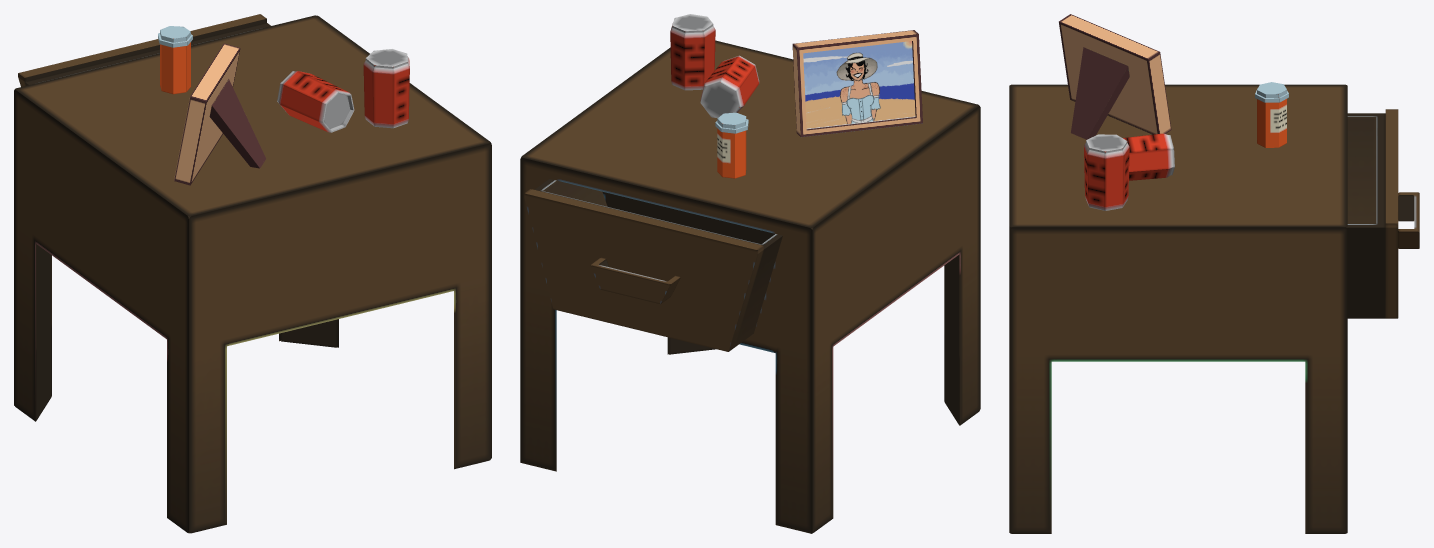
Rendered from BedSideTable.obj.
The picture shows the model from 3 angles, left to right: view 1: azimuth 30°, elevation 25°; view 2: azimuth 150°, elevation 25°; view 3: azimuth 270°, elevation 25°; orthographic projection. The views are drawn at different scales.
Parts seen in each view (by area): view 1: Table, Can, PictureFrame, PILLS HERE!; view 2: Table, PictureFrame, Can, PILLS HERE!; view 3: Table, PictureFrame, Can, PILLS HERE!.
Boxes of the visible parts, left/top/right/bottom form: Table: left=14, top=14, right=491, bottom=533; Can: left=277, top=49, right=409, bottom=132; PictureFrame: left=174, top=43, right=265, bottom=185; PILLS HERE!: left=158, top=26, right=192, bottom=94; Table: left=520, top=40, right=980, bottom=533; PictureFrame: left=792, top=30, right=922, bottom=137; Can: left=670, top=14, right=759, bottom=118; PILLS HERE!: left=715, top=112, right=748, bottom=178; Table: left=1009, top=84, right=1419, bottom=533; PictureFrame: left=1059, top=14, right=1171, bottom=139; Can: left=1084, top=133, right=1174, bottom=210; PILLS HERE!: left=1255, top=82, right=1288, bottom=147.
Size of the model in its own units: 0.5 by 0.6402 by 0.6062.
4 materials, 4 textured.
